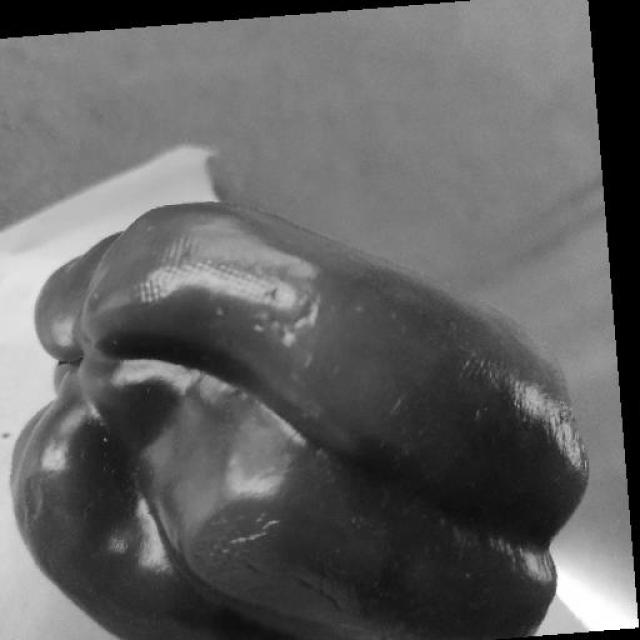Stale_Capsicum: (340, 327, 614, 640)
